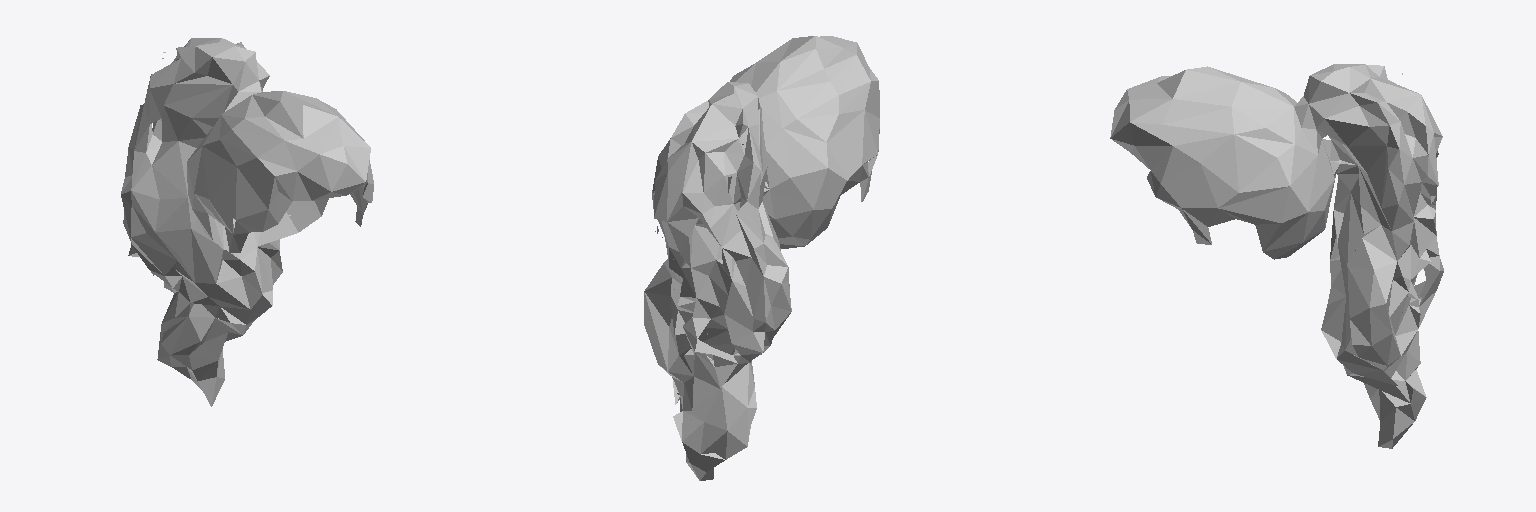
File: hair female 2.obj
3 renders of one model, left to right at view 1: azimuth 30°, elevation 25°; view 2: azimuth 150°, elevation 25°; view 3: azimuth 270°, elevation 25°, orthographic.
Visible parts, largest first — view 1: Object.001_Mesh; view 2: Object.001_Mesh; view 3: Object.001_Mesh.
Part boxes in pixels (x1,y1,x2,y2): Object.001_Mesh: (121,38,373,406); Object.001_Mesh: (644,36,879,480); Object.001_Mesh: (1110,64,1443,448).
Size of the model in its own units: 0.3665 by 0.8849 by 0.7215.